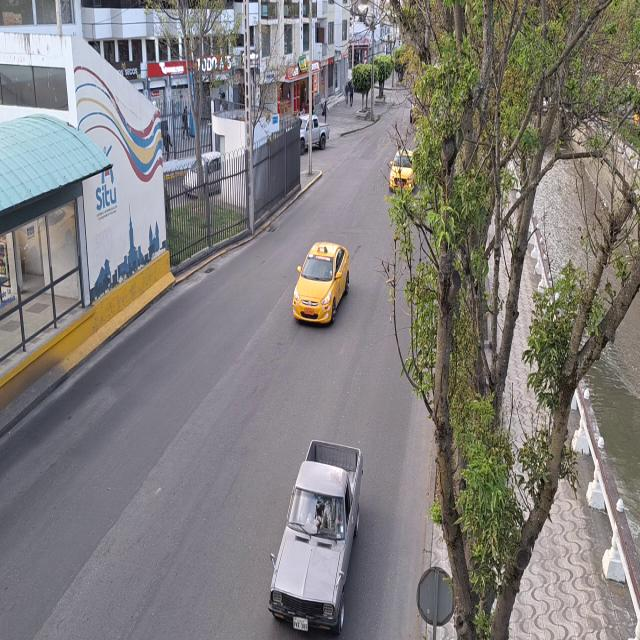CMT: (272, 442, 364, 640)
SED: (290, 235, 354, 333)
